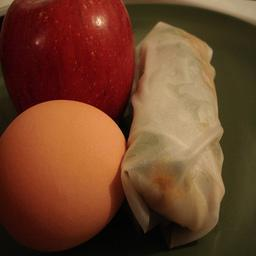apple: (1, 1, 133, 124)
